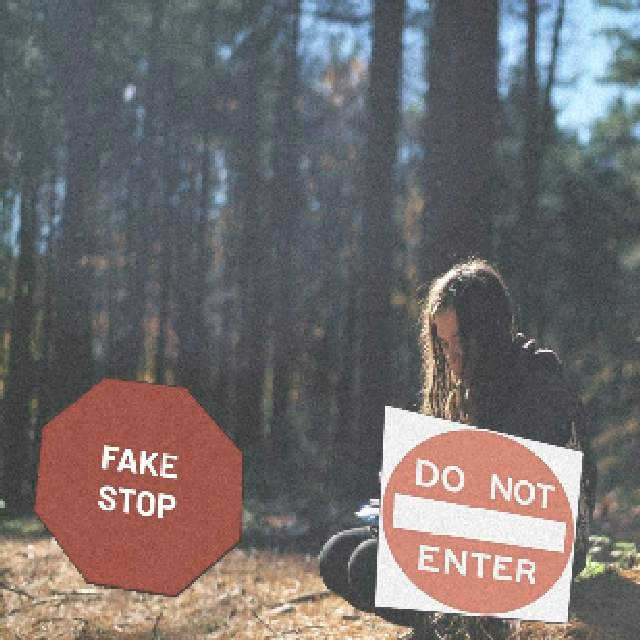DO_NOT_ENTER: (372, 402, 583, 623)
FAKE_STOP: (31, 375, 242, 596)
